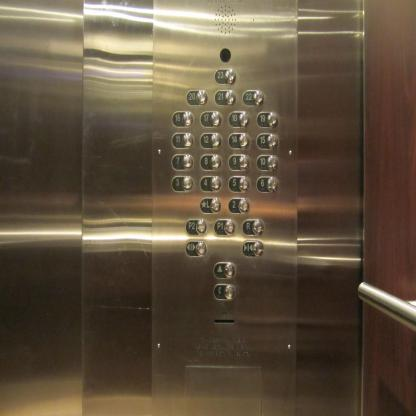10: (256, 154, 279, 172)
11: (171, 132, 194, 150)
12: (199, 132, 222, 150)
14: (228, 132, 250, 150)
15: (256, 133, 279, 150)
16: (171, 110, 194, 129)
17: (200, 110, 222, 128)
18: (228, 111, 251, 128)
19: (256, 111, 279, 129)
2: (228, 197, 250, 215)
20: (186, 89, 208, 107)
21: (214, 90, 237, 107)
22: (242, 89, 265, 107)
23: (214, 68, 236, 85)
3: (170, 175, 194, 193)
4: (199, 175, 222, 193)
5: (228, 175, 250, 194)
6: (256, 176, 278, 193)
7: (171, 154, 194, 172)
8: (199, 154, 222, 172)
9: (228, 154, 250, 172)
P1: (213, 218, 236, 236)
P2: (184, 218, 208, 236)
R: (242, 218, 264, 236)
alarm: (212, 261, 236, 280)
call: (212, 283, 235, 301)
close: (241, 240, 264, 258)
open: (185, 240, 207, 258)
sL: (199, 197, 222, 214)
